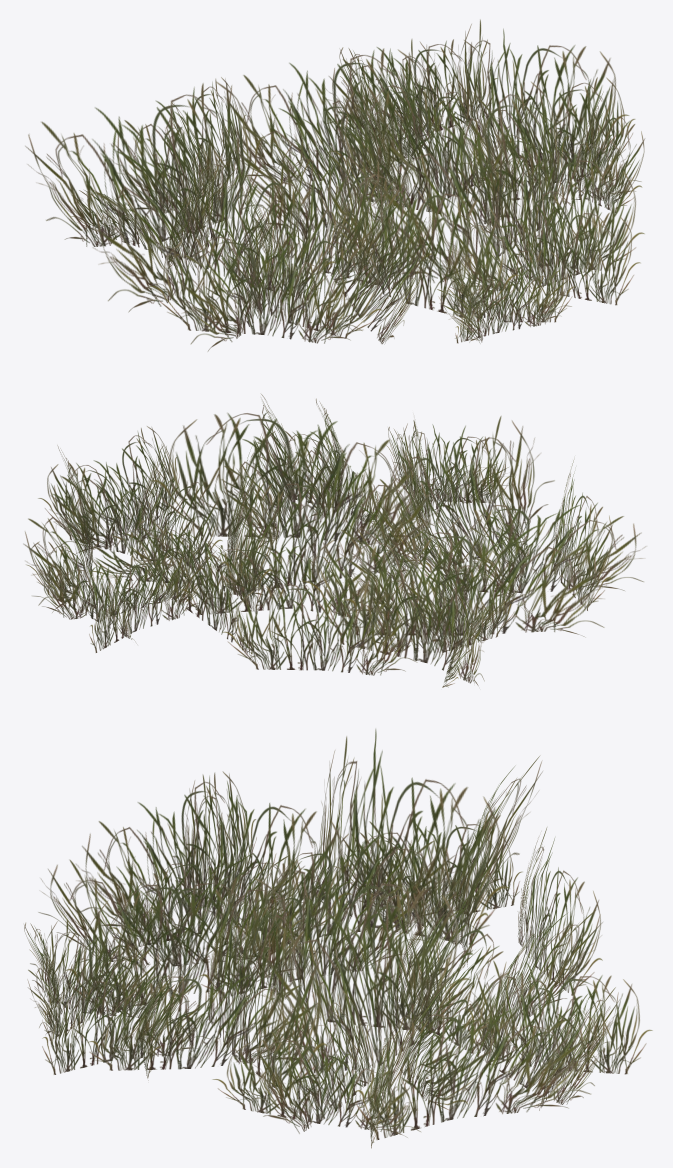
File: grama.glb
The picture shows the model from 3 angles, top to bottom: view 1: azimuth 30°, elevation 25°; view 2: azimuth 150°, elevation 25°; view 3: azimuth 270°, elevation 25°; orthographic projection. The views are drawn at different scales.
Parts seen in each view (by area): view 1: grass; view 2: grass; view 3: grass.
Part boxes in pixels (bbox=[...]): grass: bbox=[25, 19, 644, 351]; grass: bbox=[23, 394, 646, 687]; grass: bbox=[24, 729, 652, 1148].
Size of the model in its own units: 1.98 by 0.5165 by 1.71.
Materials: 1 (1 with a texture image).
